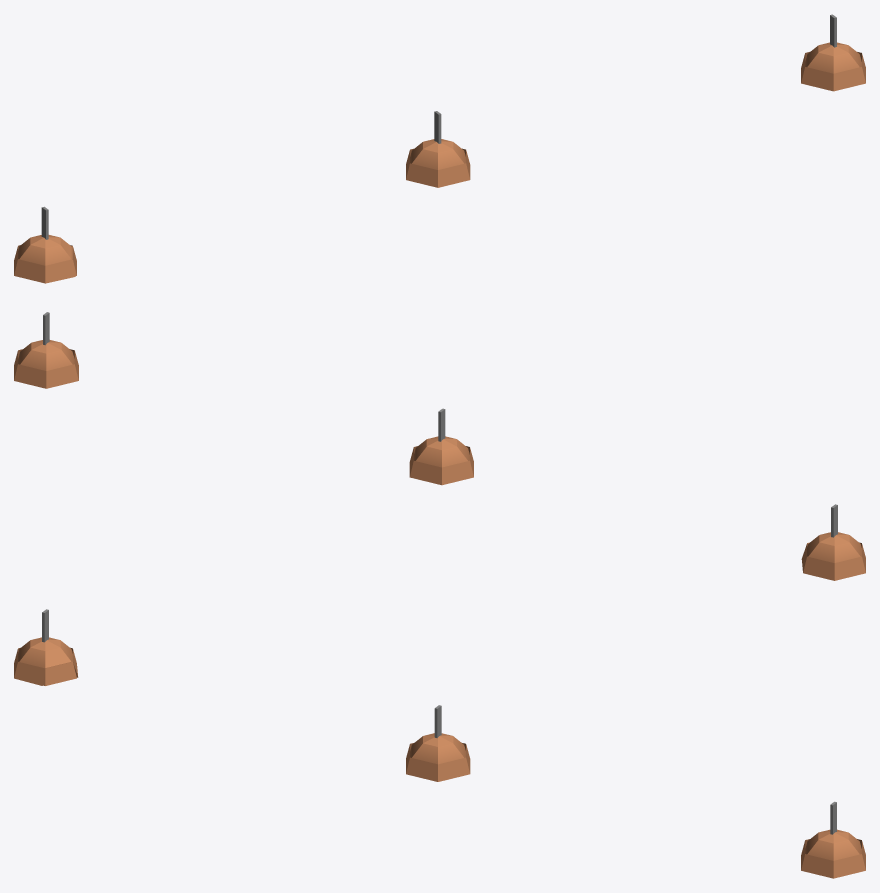
File: p1Luces2.fbx
3 renders of one model, top to bottom at view 1: azimuth 30°, elevation 25°; view 2: azimuth 150°, elevation 25°; view 3: azimuth 330°, elevation 25°, orthographic.
Visible parts, largest first — view 1: pSphere4 (×3); view 2: pSphere4 (×3); view 3: pSphere4 (×3).
Part boxes in pixels (x1,y1,x2,y2): pSphere4 (×3): (14, 42, 865, 283); pSphere4 (×3): (14, 340, 865, 580); pSphere4 (×3): (14, 637, 865, 878).
Bounding box in the file's own units: 21.56 × 1.56 × 1.43.
